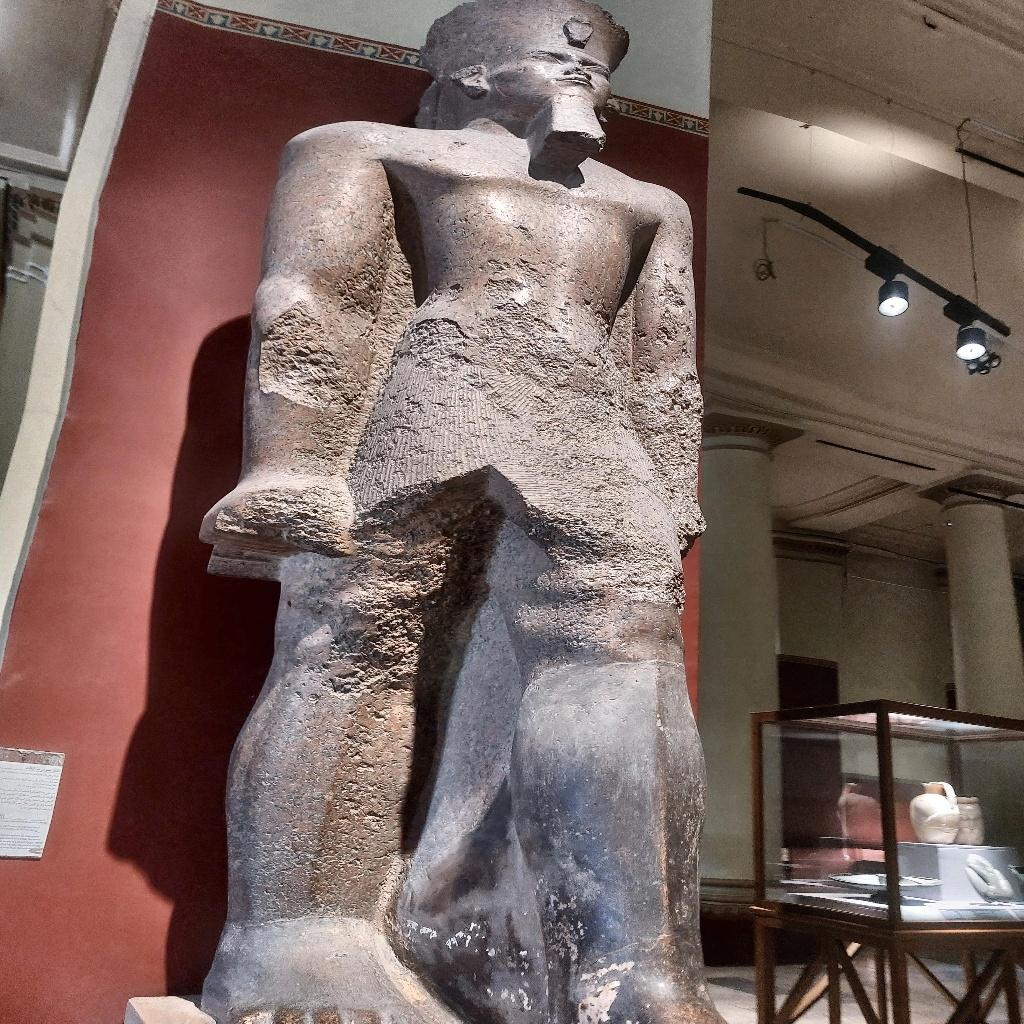Senwosret III: (194, 2, 724, 1020)
